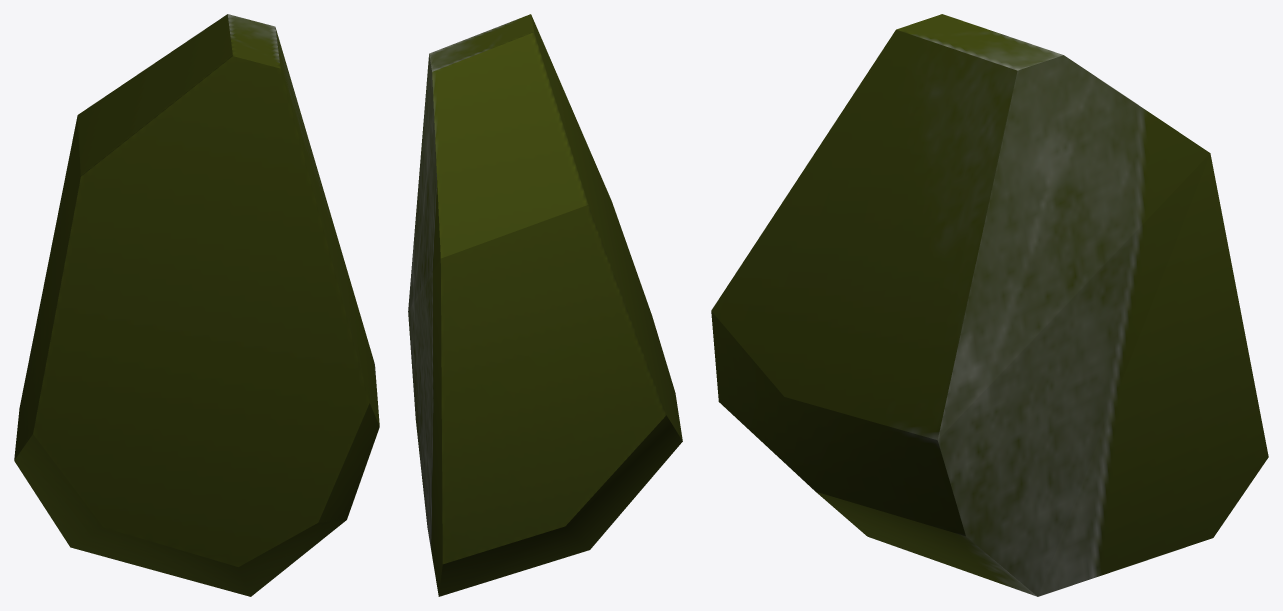
The model's file is rock5_unity.fbx.
The picture shows the model from 3 angles, left to right: view 1: azimuth 30°, elevation 25°; view 2: azimuth 150°, elevation 25°; view 3: azimuth 270°, elevation 25°; orthographic projection. The views are drawn at different scales.
Visible parts, largest first — view 1: Object011; view 2: Object011; view 3: Object011.
Part boxes in pixels (box(x1,y1,x2,y2)): Object011: box(14, 14, 379, 596); Object011: box(408, 14, 682, 596); Object011: box(711, 14, 1268, 596).
Bounding box in the file's own units: 13.2 × 19.58 × 21.2.
Materials: 1 (1 with a texture image).
